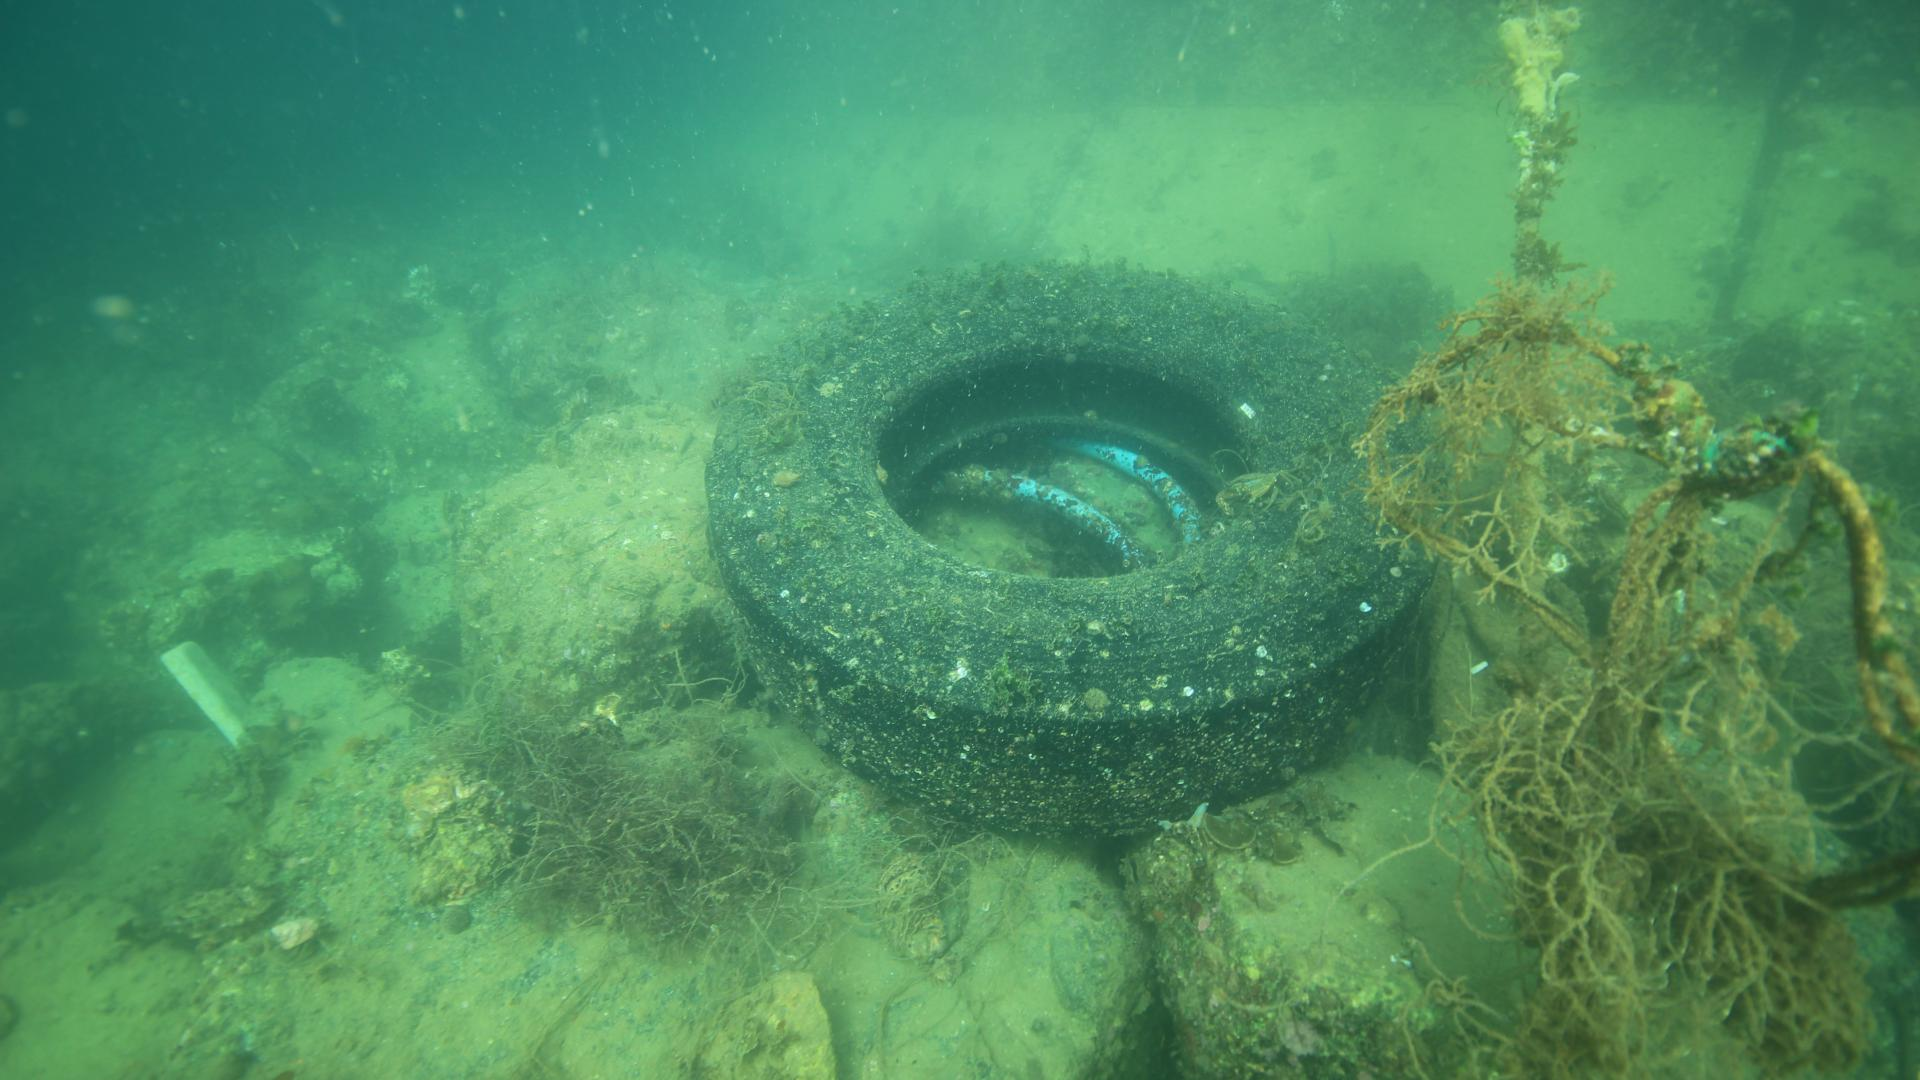tire: (702, 258, 1439, 839)
